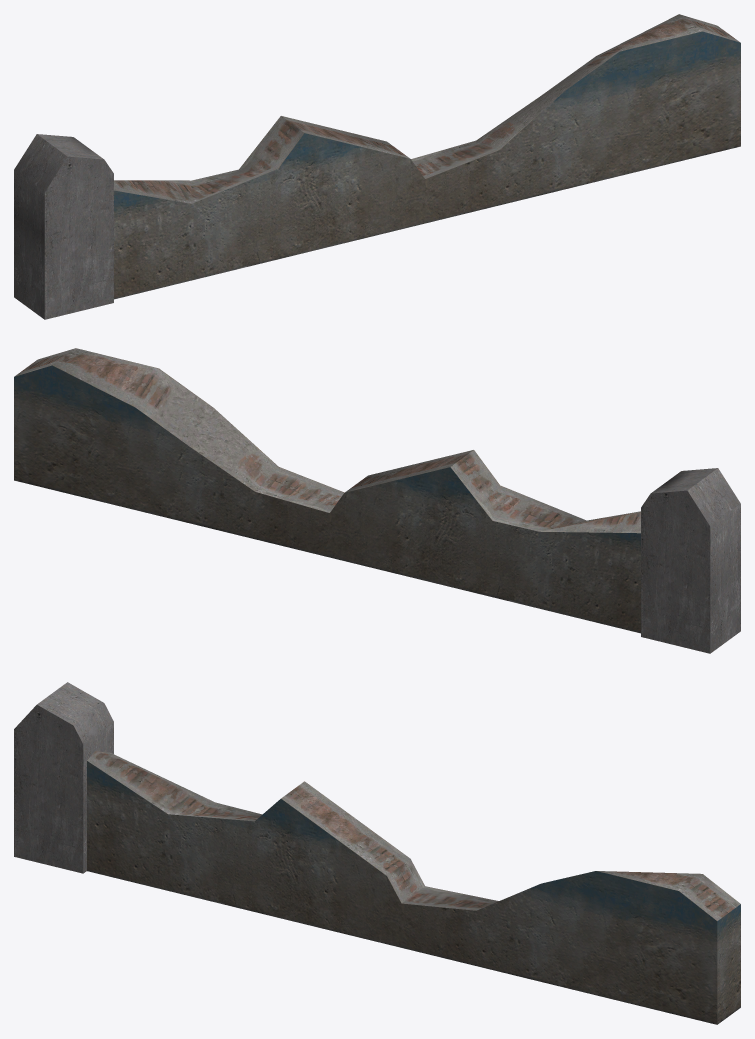
Rendered from Cover_WallB1.glb.
3 views of the same model, one above another, from view 1: azimuth 30°, elevation 25°; view 2: azimuth 150°, elevation 25°; view 3: azimuth 330°, elevation 25° (orthographic).
Visible parts, largest first — view 1: xiutz_wall_b1; view 2: xiutz_wall_b1; view 3: xiutz_wall_b1.
Part boxes in pixels (x1,y1,x2,y2): xiutz_wall_b1: (14,14,740,319); xiutz_wall_b1: (14,348,740,653); xiutz_wall_b1: (14,682,740,1024).
Bounding box in the file's own units: 4.92 × 1.06 × 0.375.
1 material, 1 textured.
